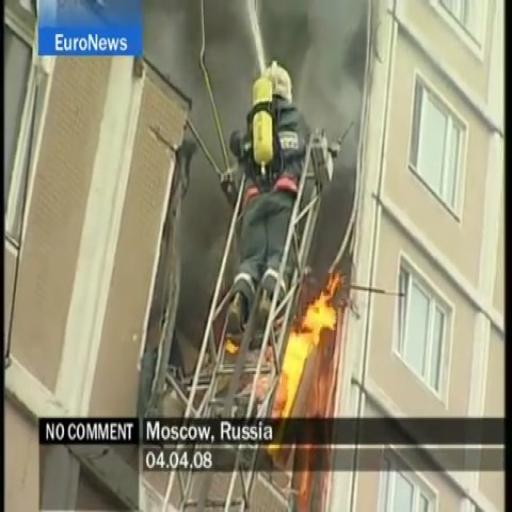fire: (276, 270, 346, 420), (224, 336, 240, 356)
